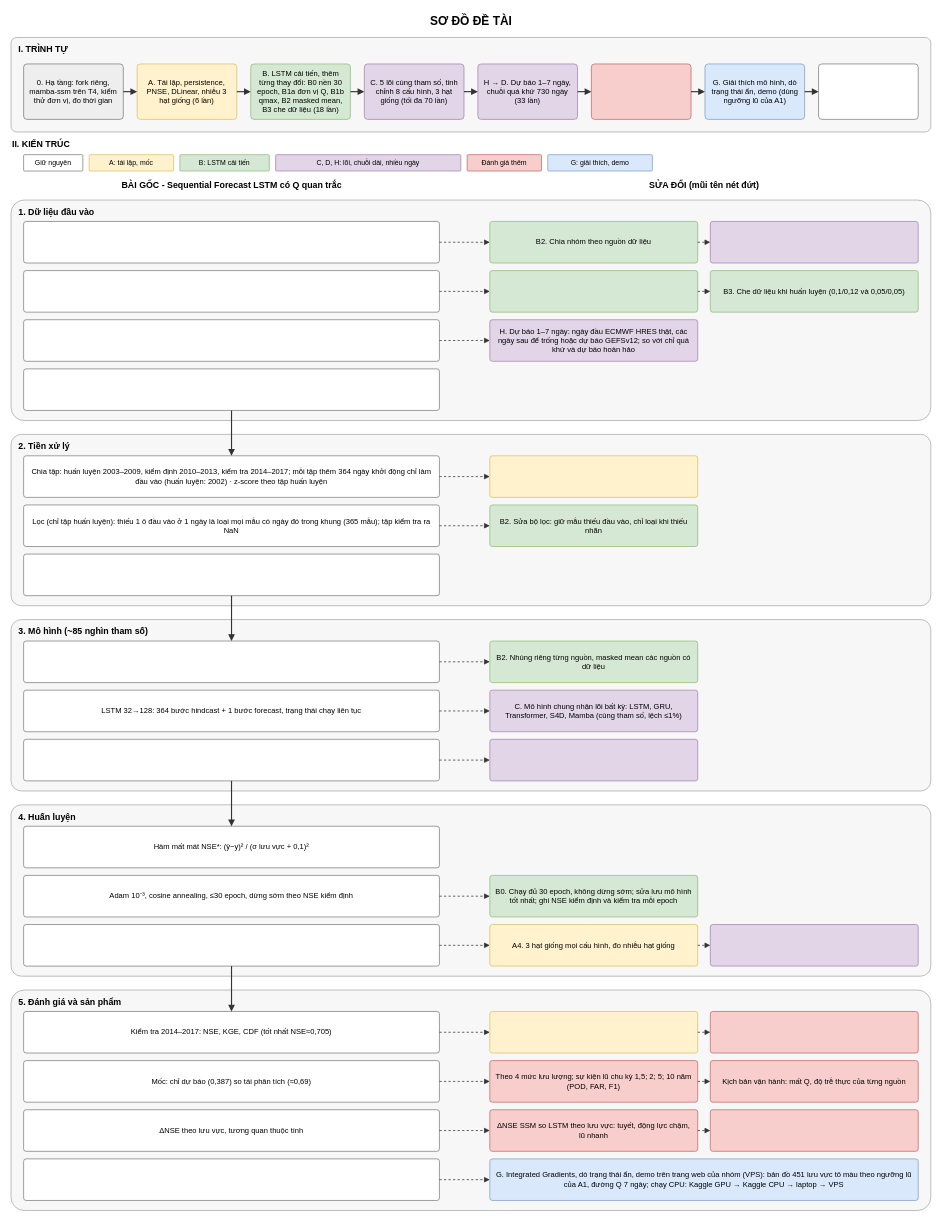
Some shapes in this 942 by 1222 pixel diagram are drawn without their labels. The shapes that lost their labels are listed below. From the top down, each one's centre as x and y in pixels, then its label:
At [641,91]: "Đánh giá: mức, sự kiện lũ, kịch bản vận hành, kiểm định".
At [868,91]: "BÁO CÁO".
At [231,242]: "Hindcast 364 ngày × 31 biến (ERA5-Land, E-OBS, MSWEP, GLEAM), một khối chung".
At [814,242]: "D. Mở rộng 730 ngày (LSTM, Mamba, S4D)".
At [231,291]: "Q quá khứ: qmean theo m³/s (nhãn mm/ngày), thiếu ngày → mất mẫu".
At [593,291]: "B1a. Q cùng đơn vị mm/ngày với nhãn; B1b: thêm qmax quá khứ; B2: nhóm Q riêng".
At [231,340]: "Forecast ngày t: 5 biến ECMWF HRES".
At [231,389]: "33 thuộc tính tĩnh · nhãn qmax ngày t (mm/ngày theo diện tích)".
At [593,476]: "A1. Ngưỡng mức và ngưỡng lũ tính trên 1981–2013 (trước kỳ kiểm tra)".
At [231,574]: "Lô 256, trộn giữa các lưu vực".
At [231,661]: "Nhúng tuyến tính, ghép 32 chiều/bước".
At [231,760]: "Dropout 0,3, tuyến tính 128→1 → qmax".
At [593,760]: "H. Đầu ra 7 bước: qmax ngày t … t+6".
At [231,945]: "1 hạt giống · ẩn 128, lô 256, dropout 0,3".
At [814,945]: "C. Tinh chỉnh 8 cấu hình mỗi lõi: dung lượng × độ sâu × learning rate".
At [593,1032]: "A3. Persistence (NSE≈0,35–0,37), PNSE, KGE, DLinear".
At [814,1032]: "Wilcoxon theo lưu vực + Cohen's d, hiệu chỉnh Holm".
At [814,1130]: "Chi phí: tham số, thời gian mỗi epoch, bộ nhớ".
At [231,1179]: "Chưa có giải thích mô hình, ngưỡng lũ, ứng dụng".
